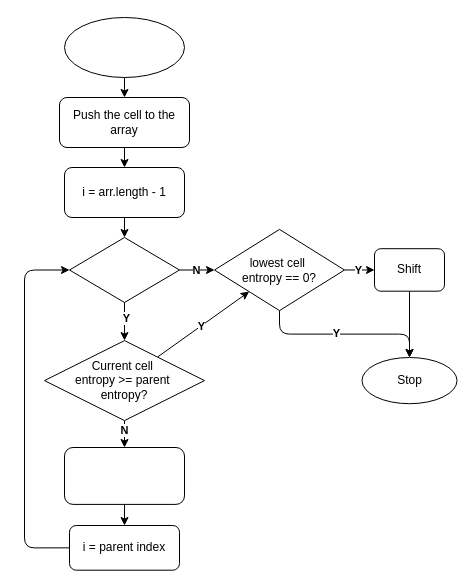
Some shapes in this 475 by 588 pixel diagram are drawn without their labels. The centre of each missing label's shape, as x and y in pixels:
"i > 0?" belongs at [124,269].
"Start" belongs at [124,47].
"Swap current node and parent node" belongs at [124,475].
